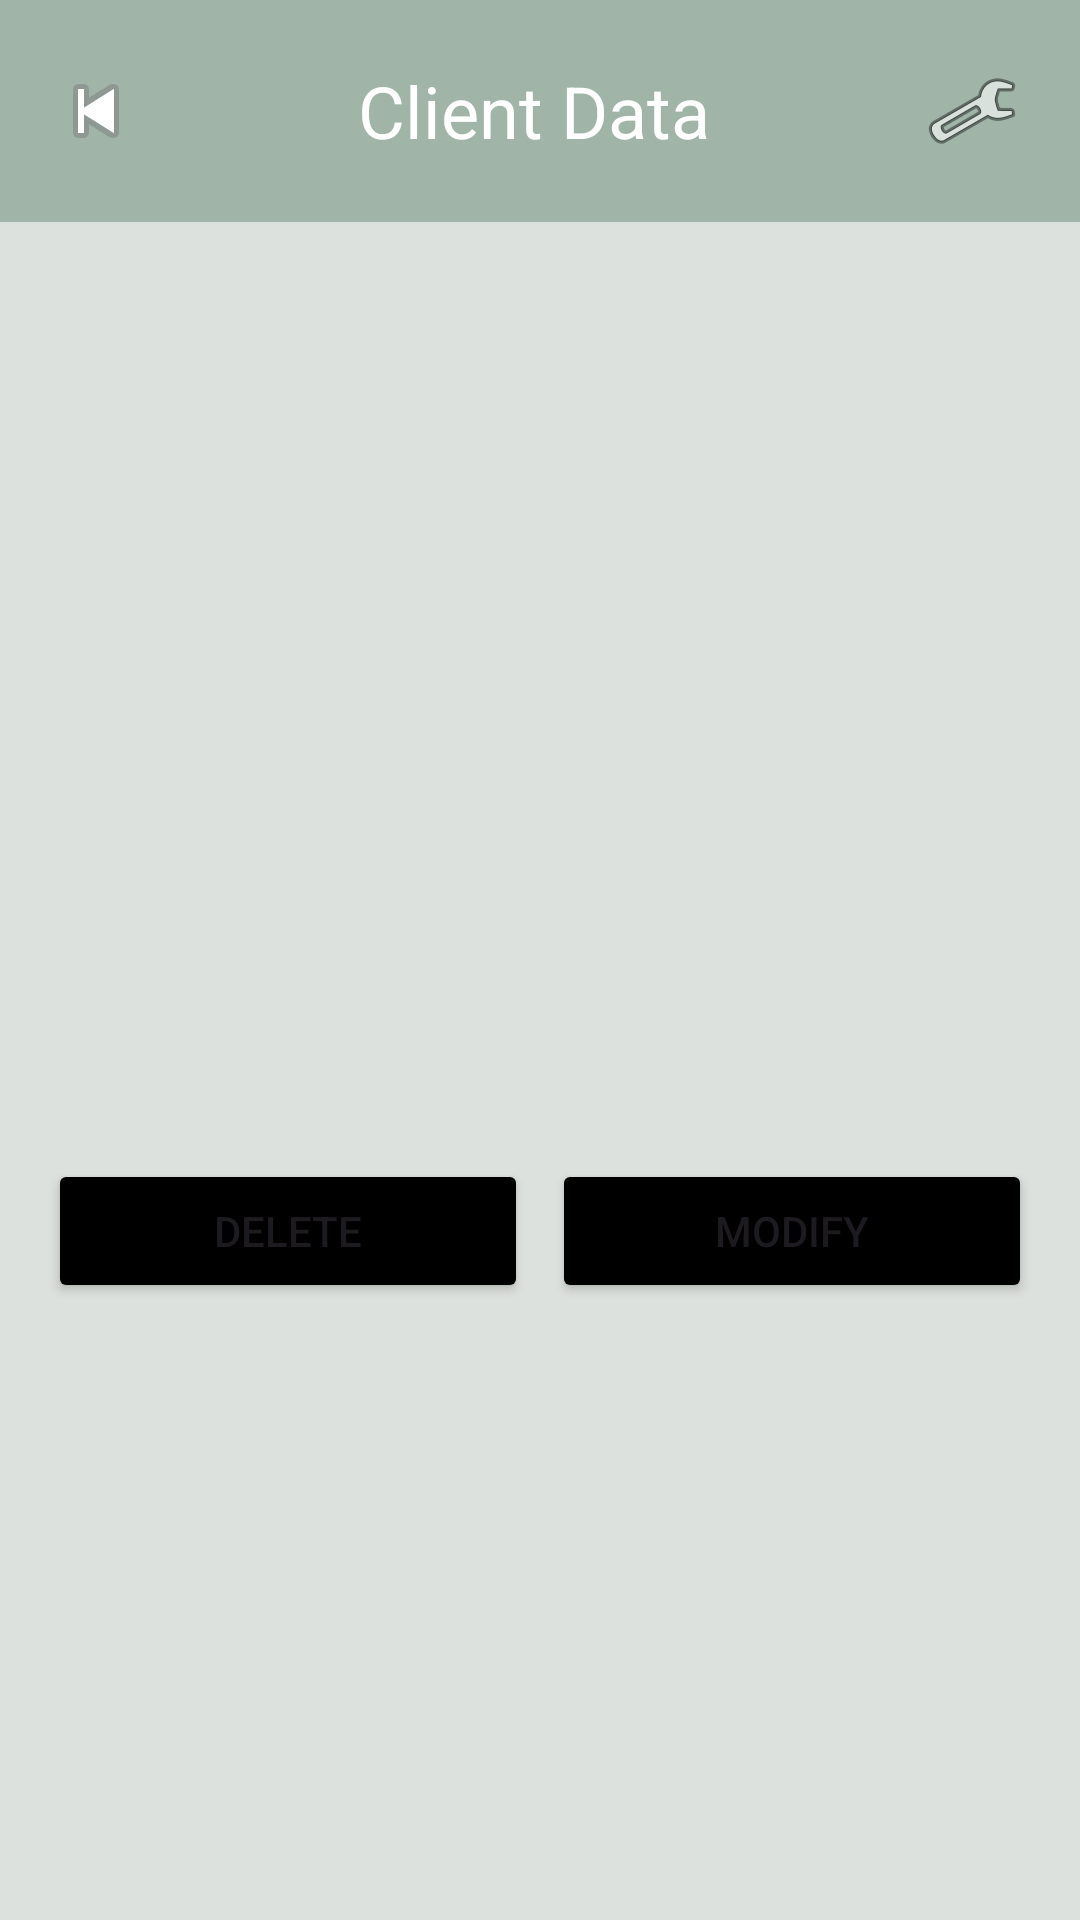

Icons on this 1080 × 1920 Android screen, each with the point to tap as (x,y):
manage: (972,111)
previous: (96,111)
